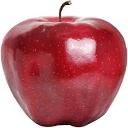apple: (1, 14, 127, 127)
